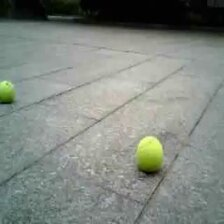tennis: (134, 136, 163, 170), (1, 79, 15, 102)
